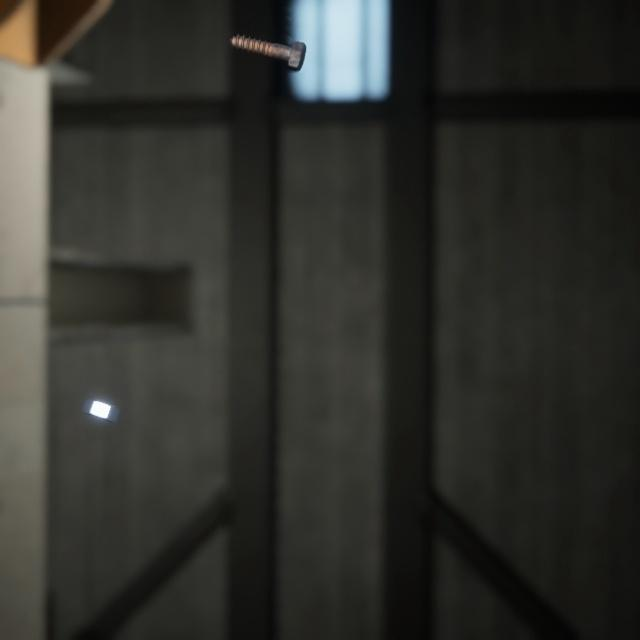bolt: (224, 19, 310, 66)
nut: (77, 374, 124, 407)
